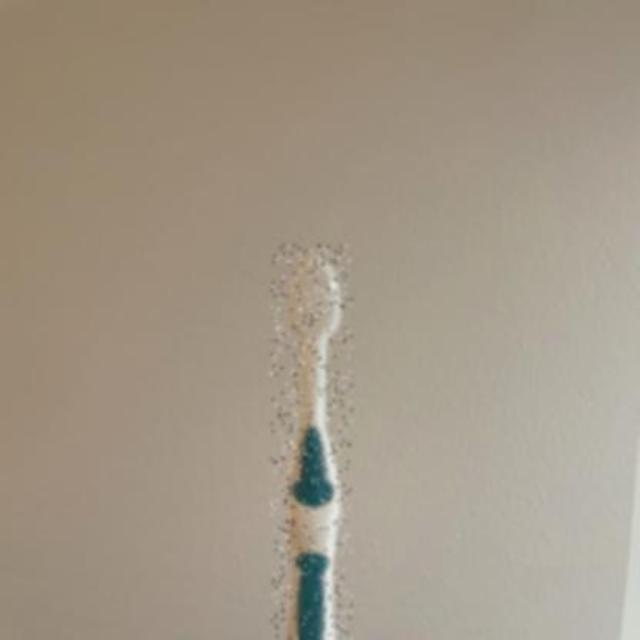toothbrush: (272, 245, 352, 640)
